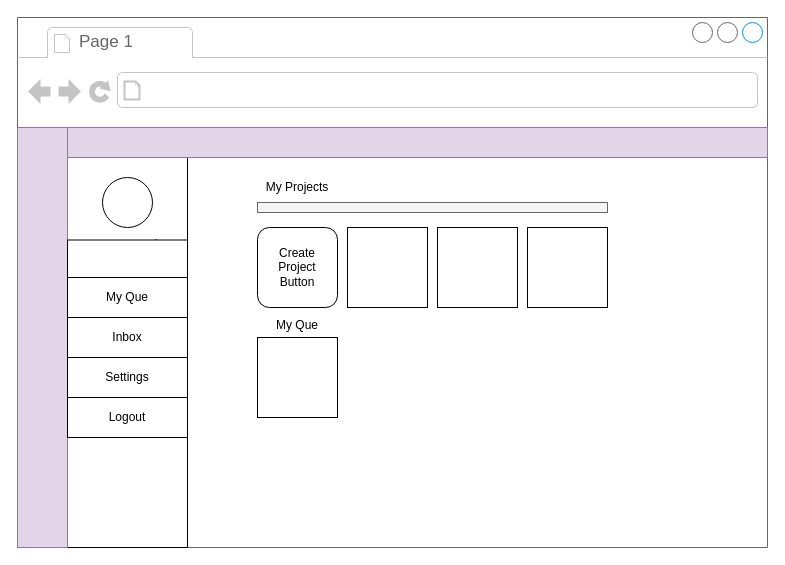
Image size: 785x565. Some labels were removed from this diagram. The shapes that lost their labels are listed below. From the top down, each one's box as (x1, y1, x2, y2) in pixels, then its label:
(146, 76, 398, 104): https://www.draw.io
(102, 176, 152, 228): User Img
(66, 239, 188, 280): Projects
